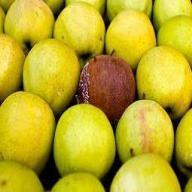apple: (24, 42, 80, 110), (81, 54, 134, 121), (2, 96, 52, 164), (60, 106, 112, 166), (136, 50, 188, 105), (116, 153, 181, 191), (107, 11, 152, 56), (61, 6, 102, 49), (161, 17, 189, 52)
